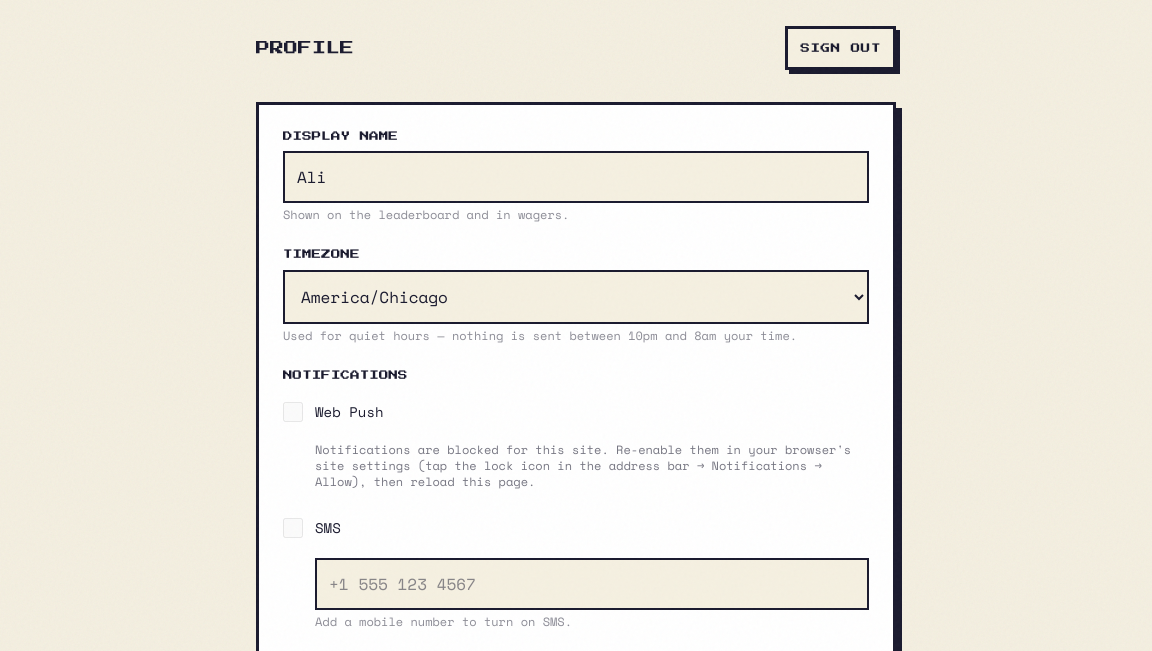
Scenario: ProfileClient › maps a 409 from the API to 'That name is taken'
This screenshot has width=1152, height=651.
Replace the text in the field labelled "DISPLAY NAME" with "Taken" at (576, 177), box [283,151,869,203]
(page scrolled)
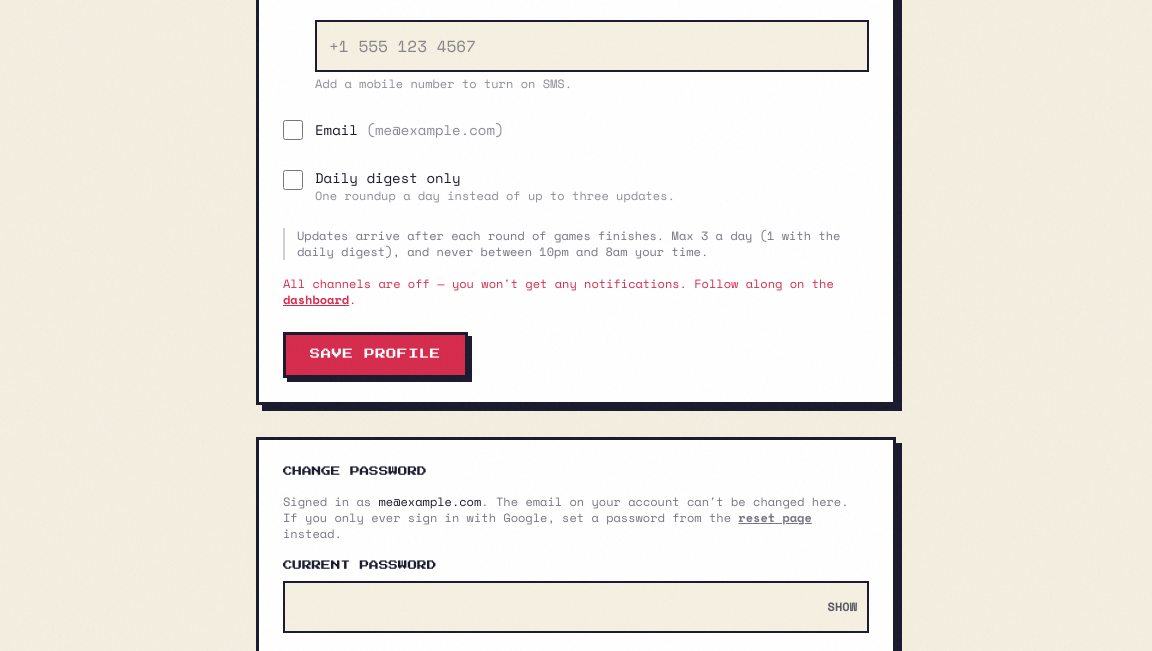
Click the button "Save Profile" at (375, 355), box [283,332,468,378]
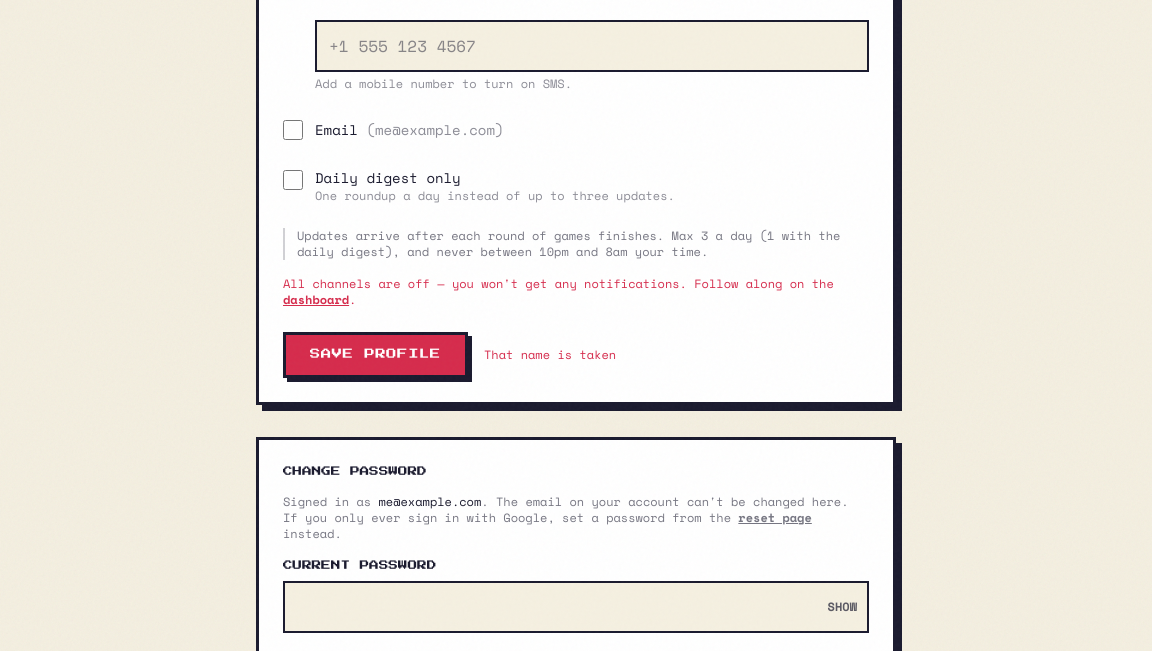
expect the message "That name is taken" is shown: met, box [484,347,616,363]
